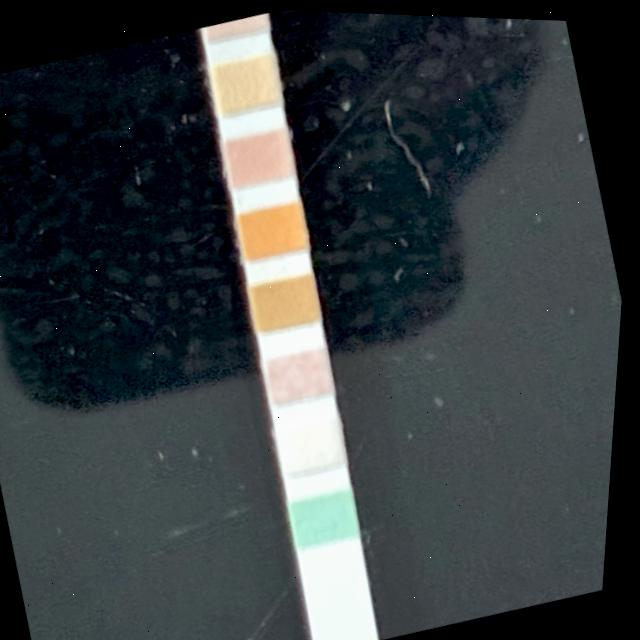Bilirubin: (282, 416, 354, 472)
Blood: (238, 198, 313, 259)
Glucose: (292, 485, 366, 547)
Ketone: (269, 342, 340, 402)
Protein: (213, 49, 285, 111)
SpGravity: (252, 269, 326, 329)
Urobilinogen: (205, 10, 268, 39)
pH: (225, 124, 300, 186)
